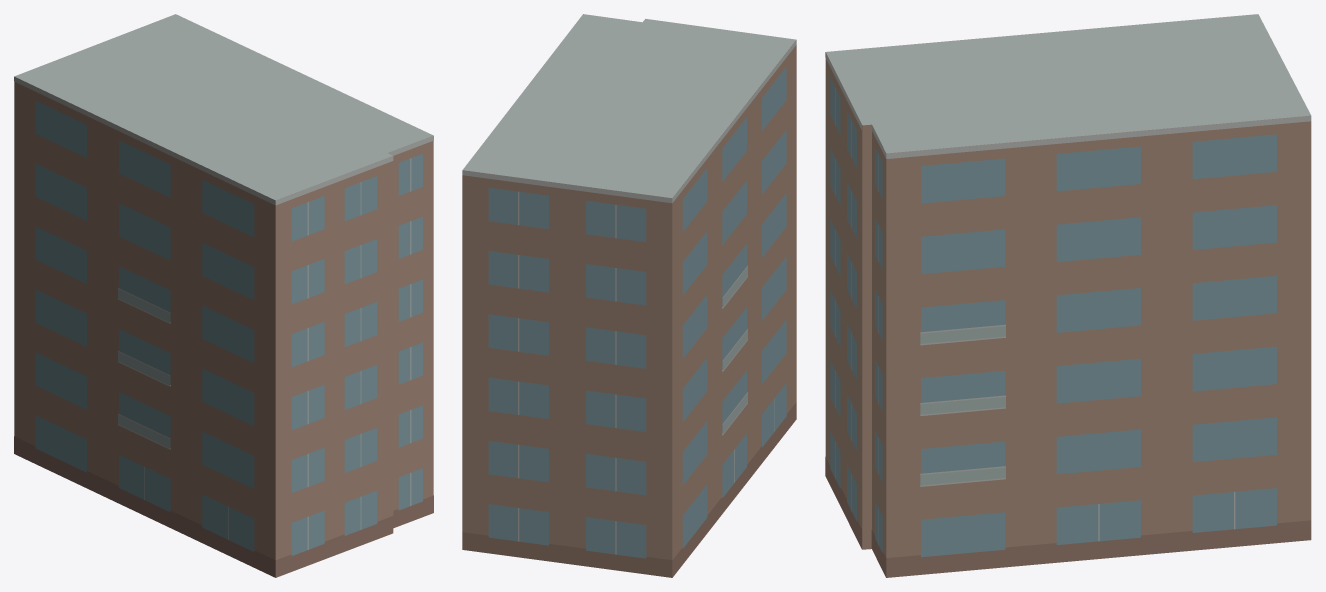
File: survey-upis-32967322.glb
The picture shows the model from 3 angles, left to right: view 1: azimuth 30°, elevation 25°; view 2: azimuth 150°, elevation 25°; view 3: azimuth 270°, elevation 25°; orthographic projection. The views are drawn at different scales.
Visible parts, largest first — view 1: survey-upis-32967322.tmp; view 2: survey-upis-32967322.tmp; view 3: survey-upis-32967322.tmp.
Part boxes in pixels (box(x1,y1,x2,y2)): survey-upis-32967322.tmp: box(14, 14, 433, 577); survey-upis-32967322.tmp: box(462, 14, 796, 577); survey-upis-32967322.tmp: box(825, 14, 1311, 577).
Bounding box in the file's own units: 12.91 × 18.3 × 18.99.
